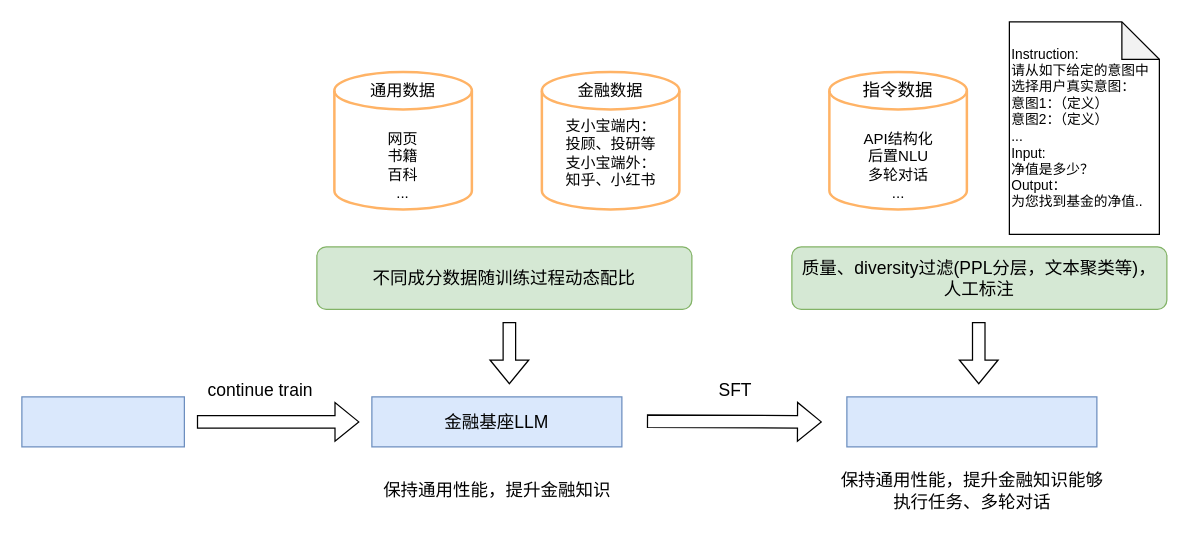
Some shapes in this 1189 by 534 pixel diagram are drawn without their labels. The centre of each missing label's shape, as x and y in pixels:
"通用基座LLM （AntGLM）" goes at point 102,421.
"金融chat-LLM" goes at point 971,421.
